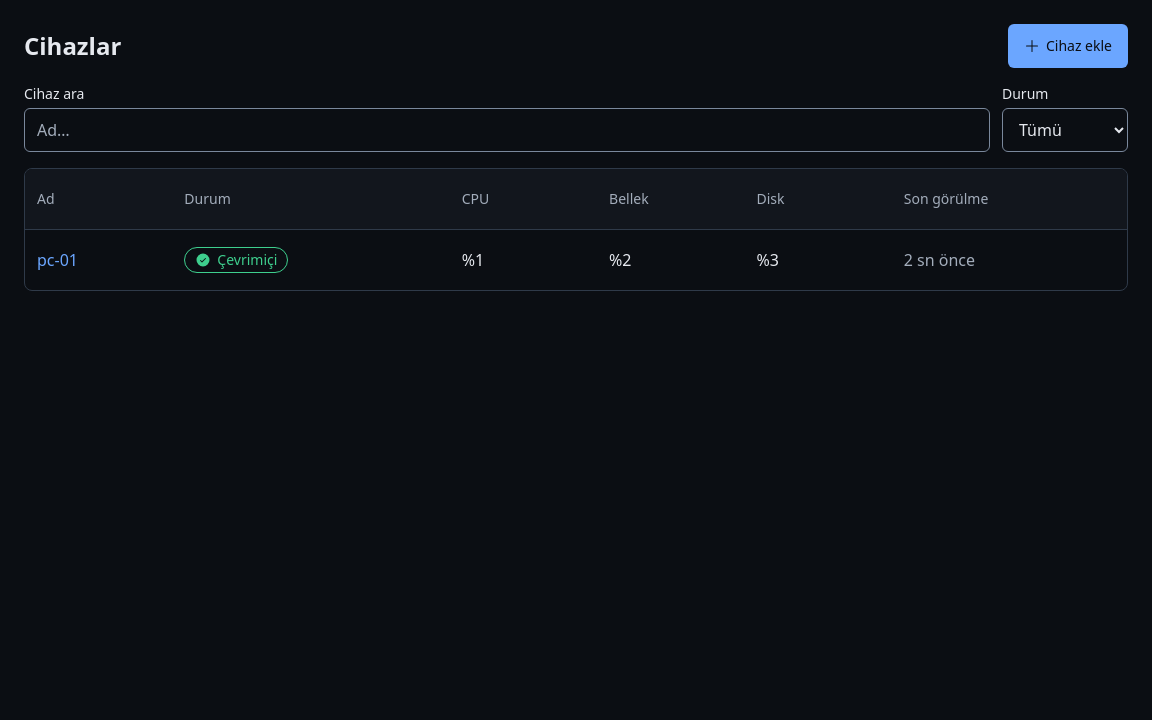
Test: Cihaz ekle (enrollment token) › TTL 4 dk -> istek false
Click the button "Cihaz ekle": [1068, 46] box [1008,24,1128,68]
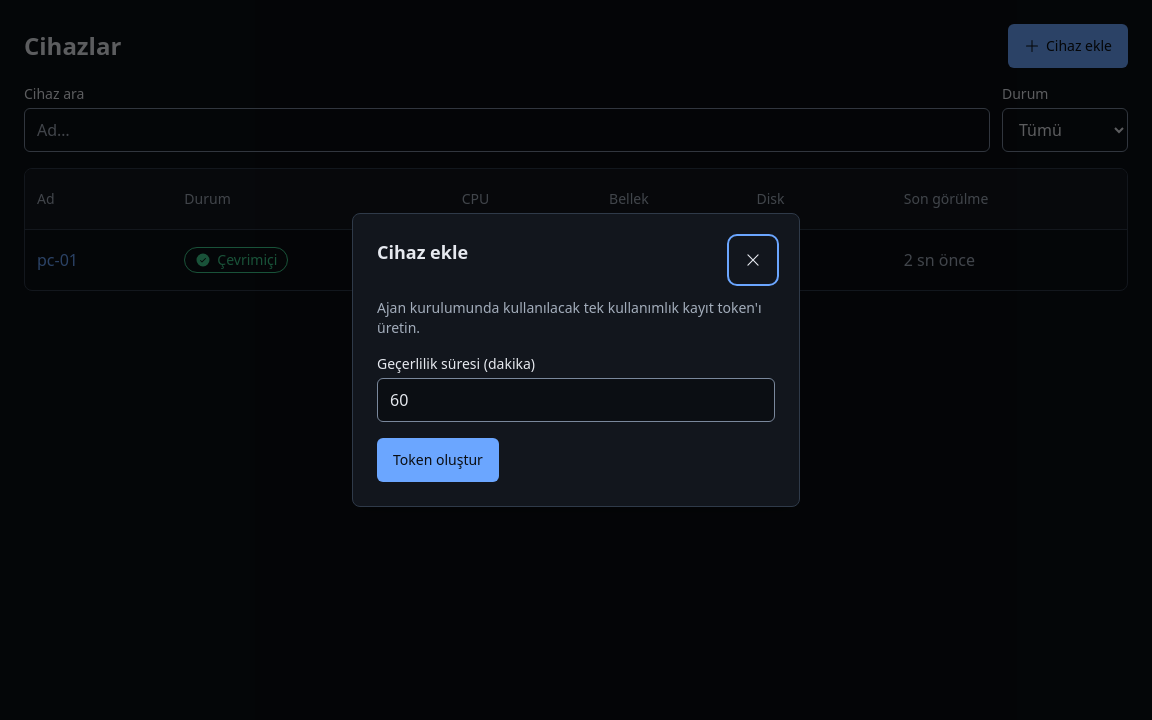
Replace the text in the number field labelled "Geçerlilik süresi (dakika)" with "4": [576, 400] box [377,378,775,422]
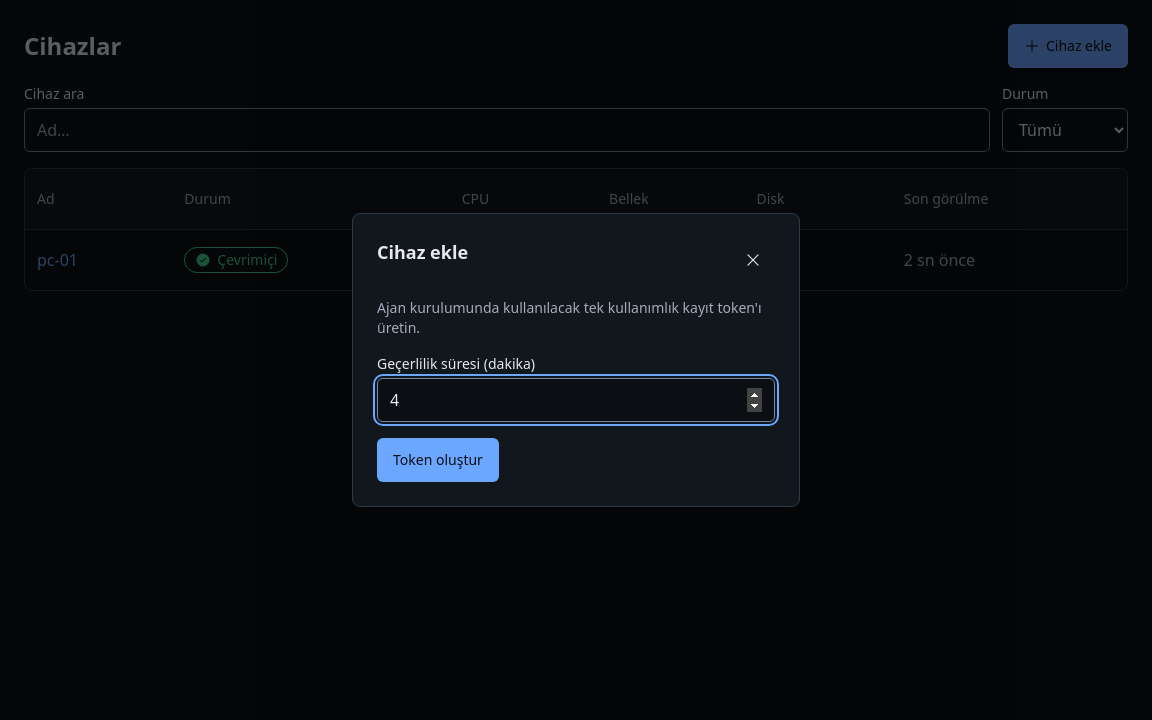
Click the button "Token oluştur": [438, 460] box [377,438,499,482]
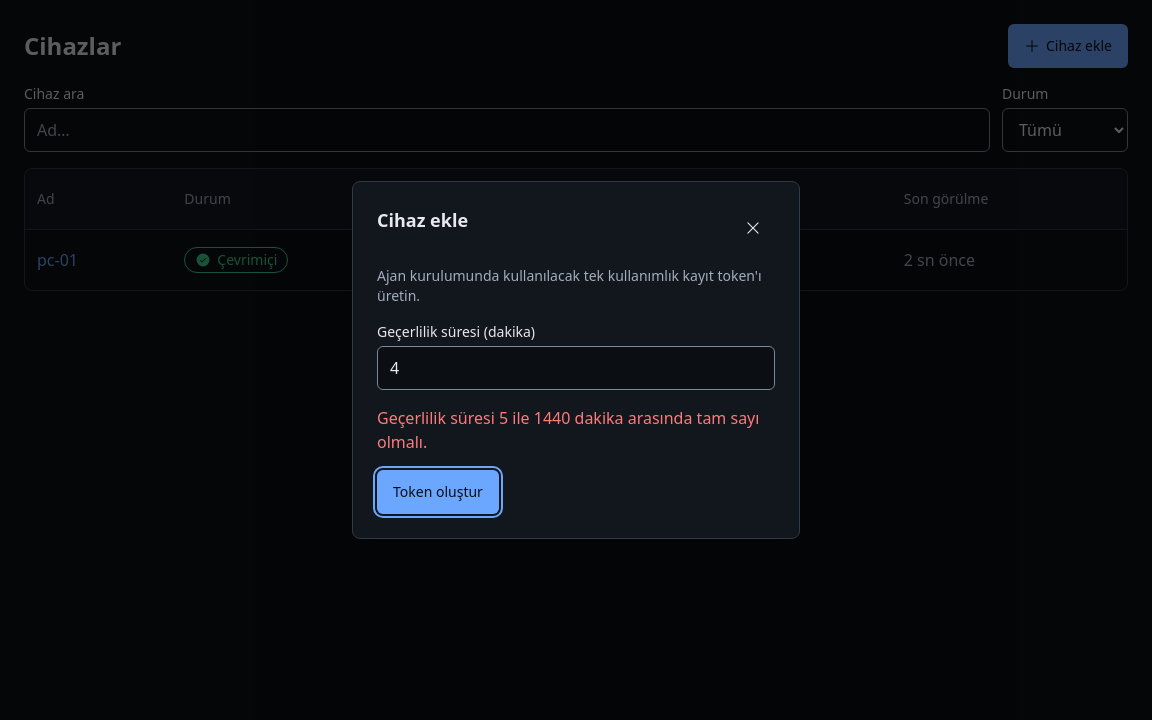
Expected: the message shows "5 ile 1440", [377,407,759,453]
